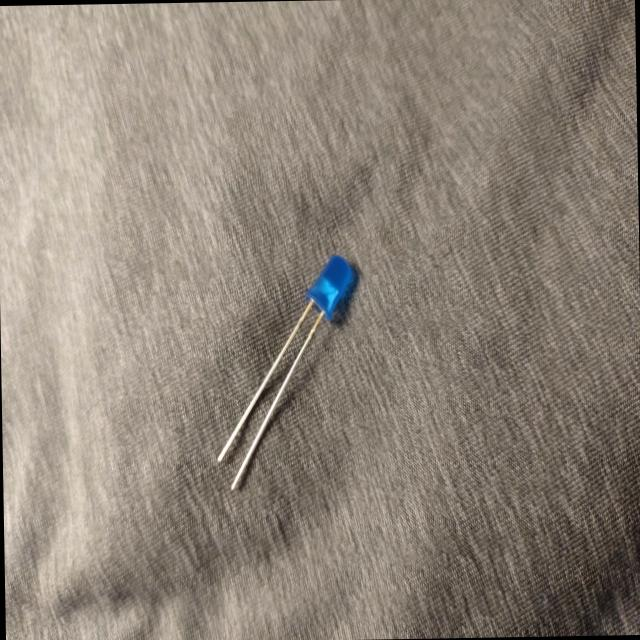blue_led: (212, 252, 360, 491)
